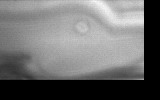cell: (60, 13, 101, 39), (18, 53, 54, 80), (69, 7, 95, 27), (73, 19, 90, 36)
